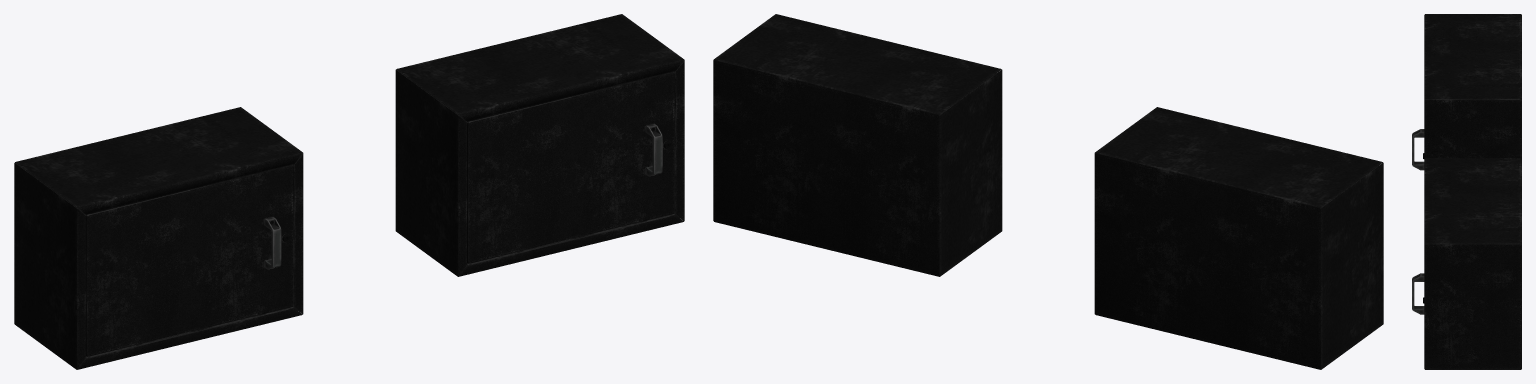
The model's file is Cassaforte.fbx.
3 views of the same model, side by side, from view 1: azimuth 30°, elevation 25°; view 2: azimuth 150°, elevation 25°; view 3: azimuth 270°, elevation 25° (orthographic). The views are drawn at different scales.
Visible parts, largest first — view 1: Cassaforte, Cassaforte-Opened, Door001; view 2: Cassaforte, Cassaforte-Opened; view 3: Cassaforte-Opened, Cassaforte, Door001.
Part boxes in pixels (x1,y1,x2,y2): Cassaforte: (14,107,303,369); Cassaforte-Opened: (395,14,684,276); Door001: (466,71,674,264); Cassaforte: (1094,107,1383,369); Cassaforte-Opened: (713,14,1002,276); Cassaforte-Opened: (1424,158,1521,369); Cassaforte: (1412,14,1521,170); Door001: (1412,273,1424,314).
Bounding box in the file's own units: 57.65 × 14.73 × 11.62.
1 material, 1 textured.
